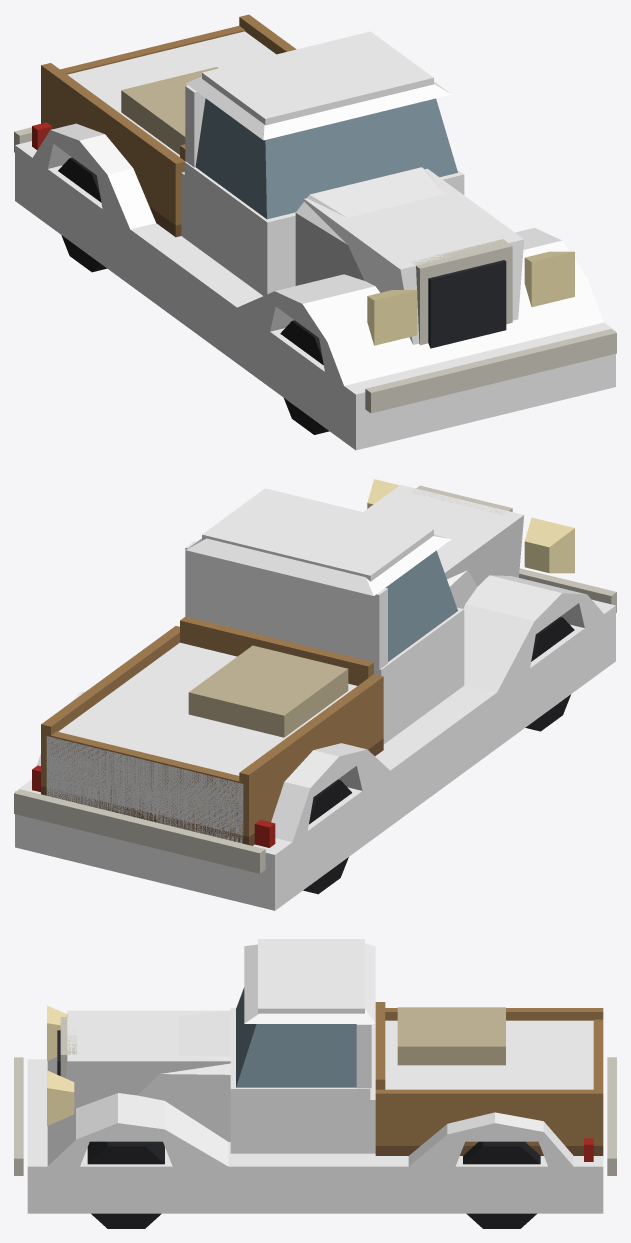
Rendered from car_pickup.glb.
3 views of the same model, one above another, from view 1: azimuth 30°, elevation 25°; view 2: azimuth 150°, elevation 25°; view 3: azimuth 270°, elevation 25° (orthographic). The views are drawn at different scales.
Parts seen in each view (by area): view 1: model, far; view 2: model, far; view 3: model, far.
Boxes of the visible parts, x1=… form: model: x1=14, y1=14, x2=616, y2=434; far: x1=15, y1=31, x2=615, y2=450; model: x1=14, y1=479, x2=616, y2=894; far: x1=15, y1=484, x2=615, y2=910; model: x1=14, y1=942, x2=616, y2=1228; far: x1=27, y1=939, x2=603, y2=1213.
Size of the model in its own units: 1.85 by 1.64 by 4.4.
